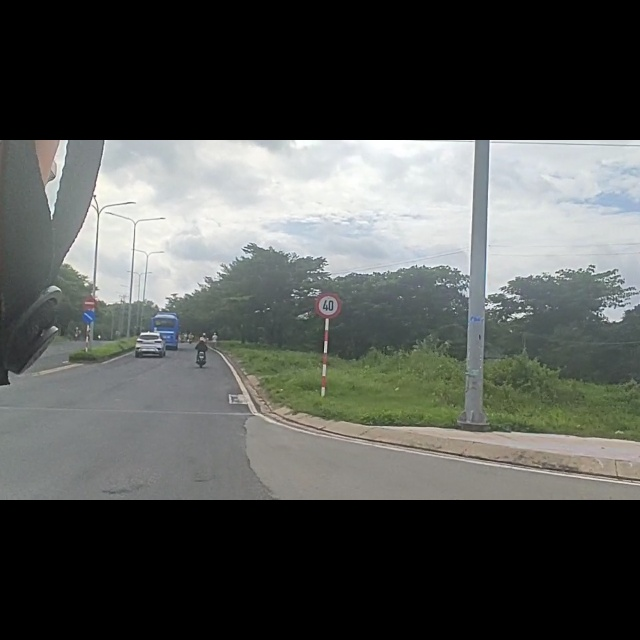bien_hieu_lenh: (314, 269, 342, 320), (81, 277, 99, 302), (79, 303, 97, 327)
